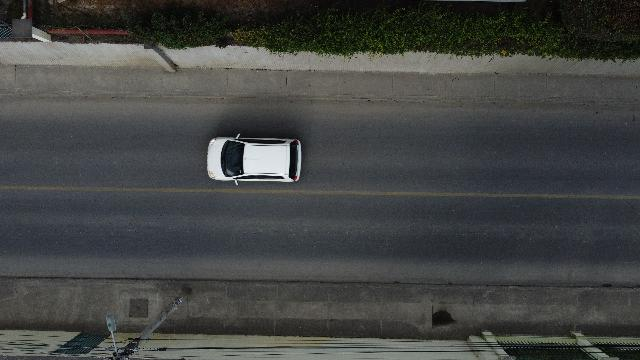Vehiculo: (206, 134, 302, 184)
